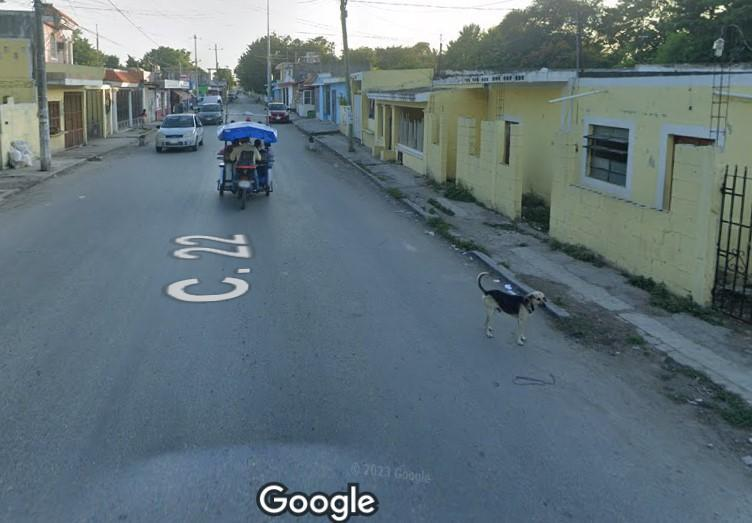normal_dogs: (472, 267, 552, 349)
